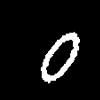chain: (41, 32, 79, 82)
